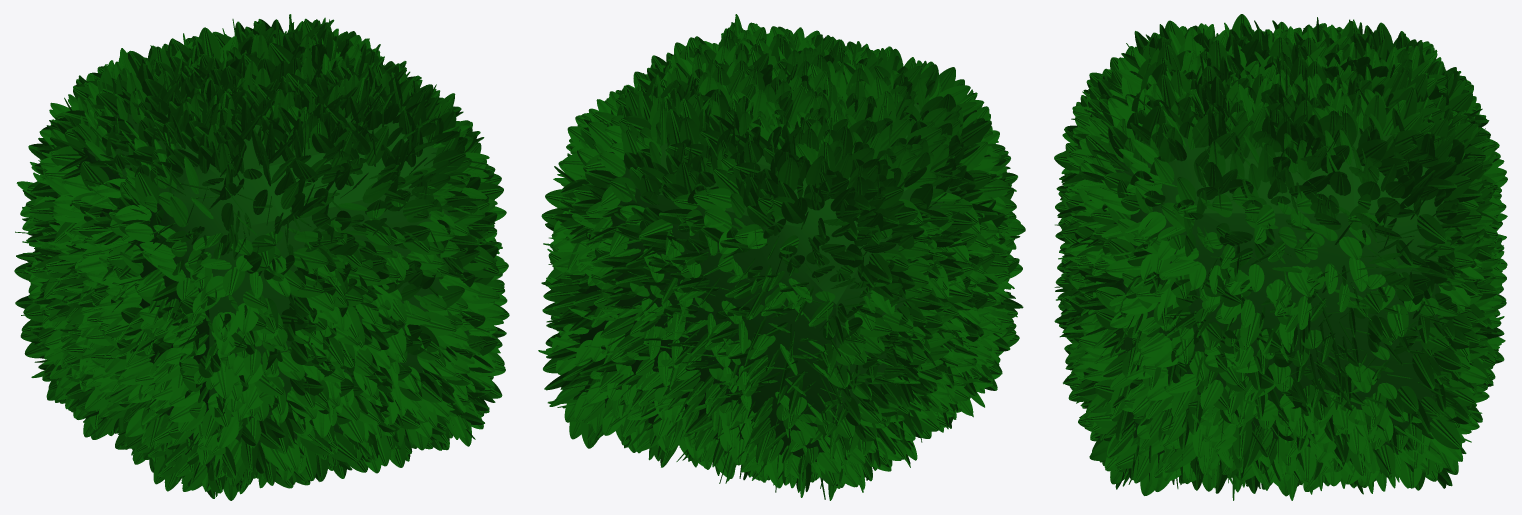
File: bush1m2.fbx
The picture shows the model from 3 angles, left to right: view 1: azimuth 30°, elevation 25°; view 2: azimuth 150°, elevation 25°; view 3: azimuth 270°, elevation 25°; orthographic projection. The views are drawn at different scales.
Parts seen in each view (by area): view 1: bush, bush|bushleaf.001|Dupli|3989, bush|bushleaf.001|Dupli|945, bush|bushleaf.002|Dupli|3658; view 2: bush, bush|bushleaf.002|Dupli|3418; view 3: bush, bush|bushleaf|Dupli|1432, bush|bushleaf.003|Dupli|2819, bush|bushleaf.003|Dupli|2835, bush|bushleaf.003|Dupli|1571, bush|bushleaf.002|Dupli|3294, bush|bushleaf|Dupli|3724, bush|bushleaf.003|Dupli|2963, bush|bushleaf|Dupli|2820.
Boxes of the visible parts, x1=… form: bush: x1=76, y1=81, x2=468, y2=467; bush|bushleaf.001|Dupli|3989: x1=293, y1=247, x2=328, y2=268; bush|bushleaf.001|Dupli|945: x1=210, y1=362, x2=233, y2=398; bush|bushleaf.002|Dupli|3658: x1=135, y1=172, x2=160, y2=208; bush: x1=579, y1=103, x2=960, y2=461; bush|bushleaf.002|Dupli|3418: x1=880, y1=118, x2=909, y2=150; bush: x1=1113, y1=87, x2=1444, y2=456; bush|bushleaf|Dupli|1432: x1=1429, y1=418, x2=1461, y2=449; bush|bushleaf.003|Dupli|2819: x1=1417, y1=214, x2=1446, y2=243; bush|bushleaf.003|Dupli|2835: x1=1356, y1=139, x2=1387, y2=166; bush|bushleaf.003|Dupli|1571: x1=1412, y1=350, x2=1434, y2=389; bush|bushleaf.002|Dupli|3294: x1=1387, y1=304, x2=1408, y2=337; bush|bushleaf|Dupli|3724: x1=1362, y1=95, x2=1386, y2=130; bush|bushleaf.003|Dupli|2963: x1=1192, y1=111, x2=1218, y2=147; bush|bushleaf|Dupli|2820: x1=1436, y1=202, x2=1470, y2=223.
Bounding box in the file's own units: 151 × 136 × 151.
